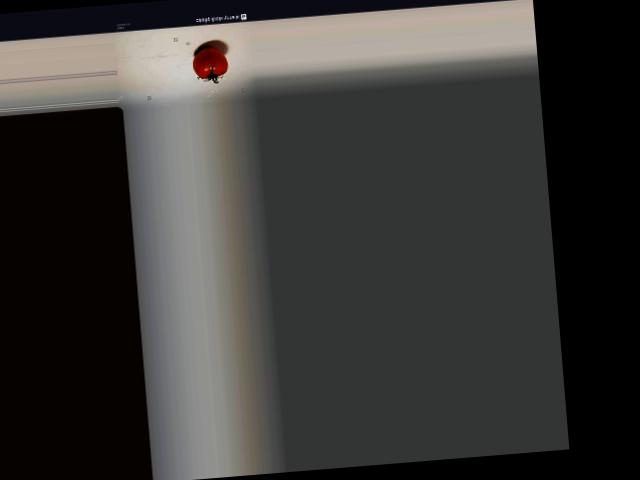tomato: (191, 45, 227, 78)
